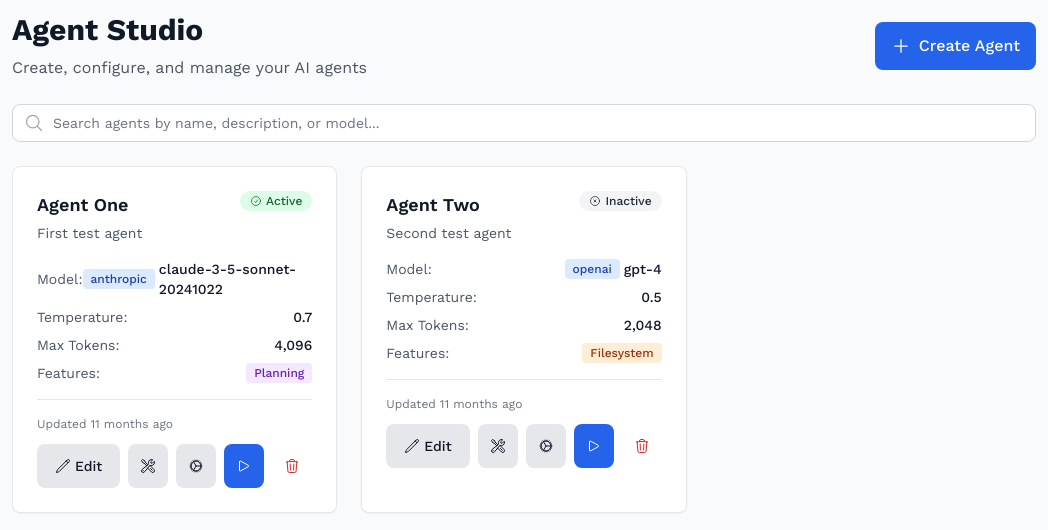
AgentStudio › filters agents by search query
This screenshot has width=1048, height=530.
Type "Agent One" into the search field with placeholder "Search agents by name, description, or model...".
click(524, 123); type("Agent One")  # box left=12, top=104, right=1036, bottom=142
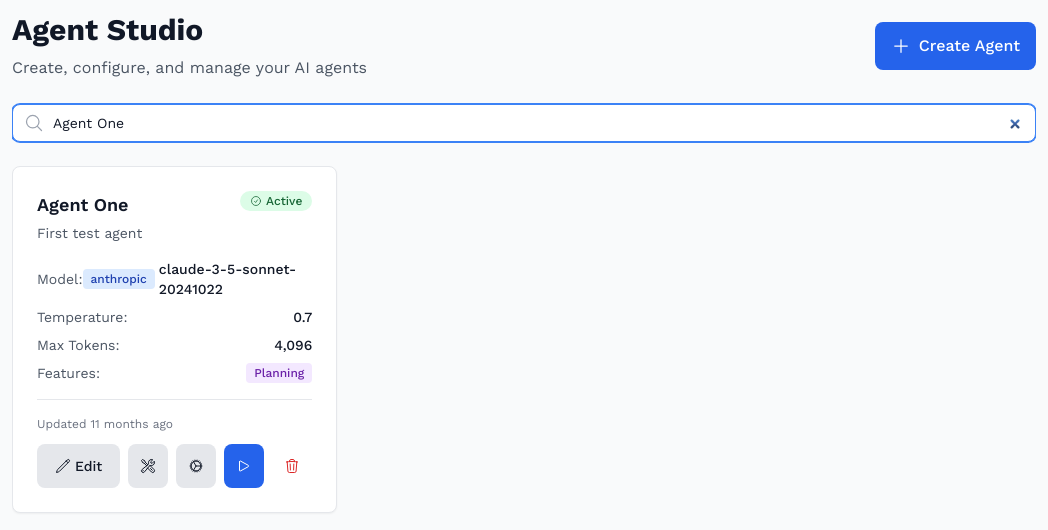
Check: the heading "Agent One" is shown, box left=37, top=194, right=128, bottom=215
Check: the heading "Agent Two" is gone
